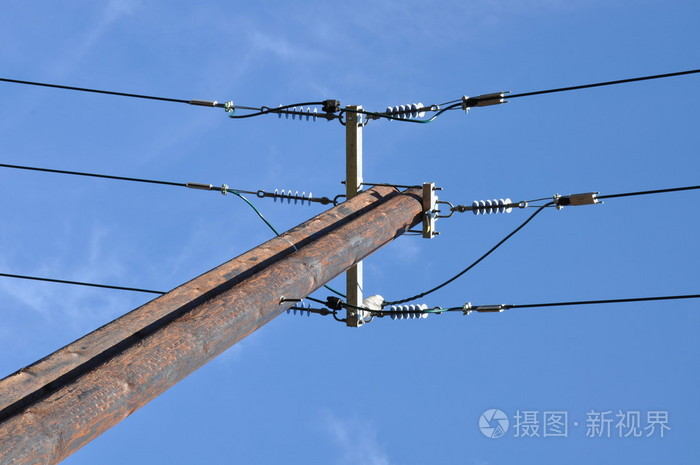insulator: (275, 104, 319, 123), (383, 103, 430, 120), (270, 189, 314, 206), (475, 197, 513, 216), (388, 302, 429, 319), (282, 302, 315, 317)
